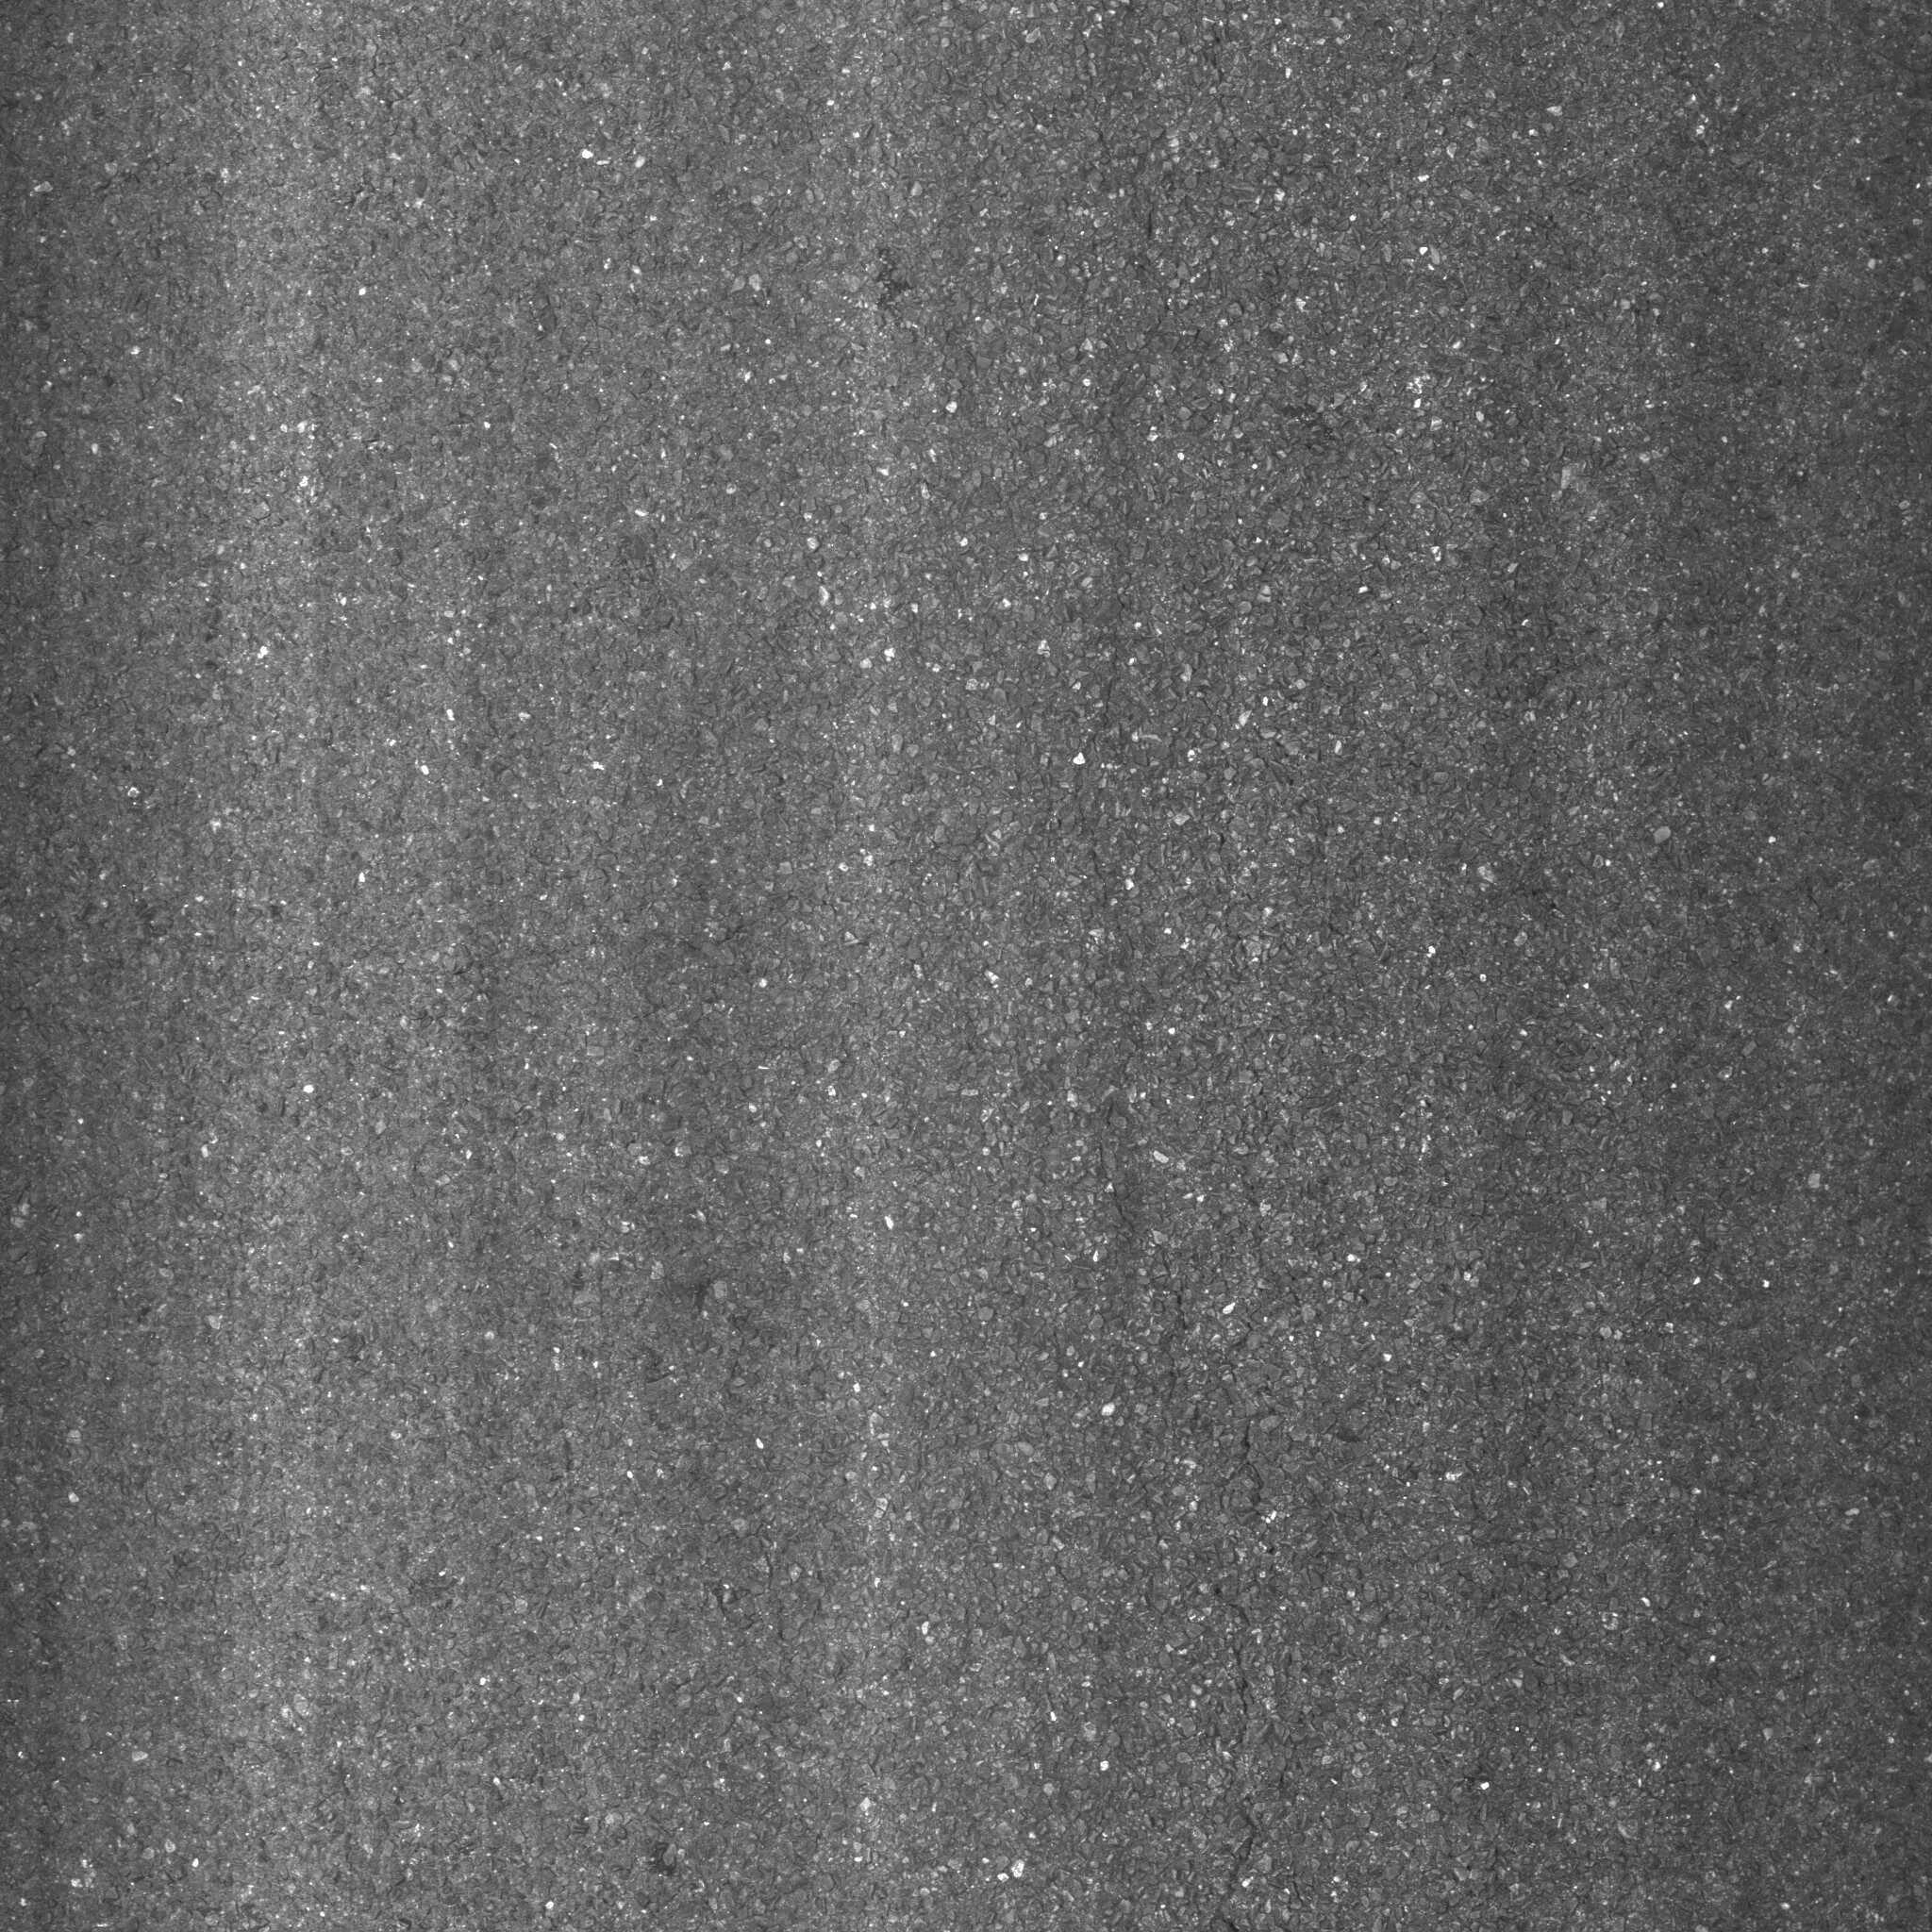longitudinal: (1086, 980, 1283, 1928)
